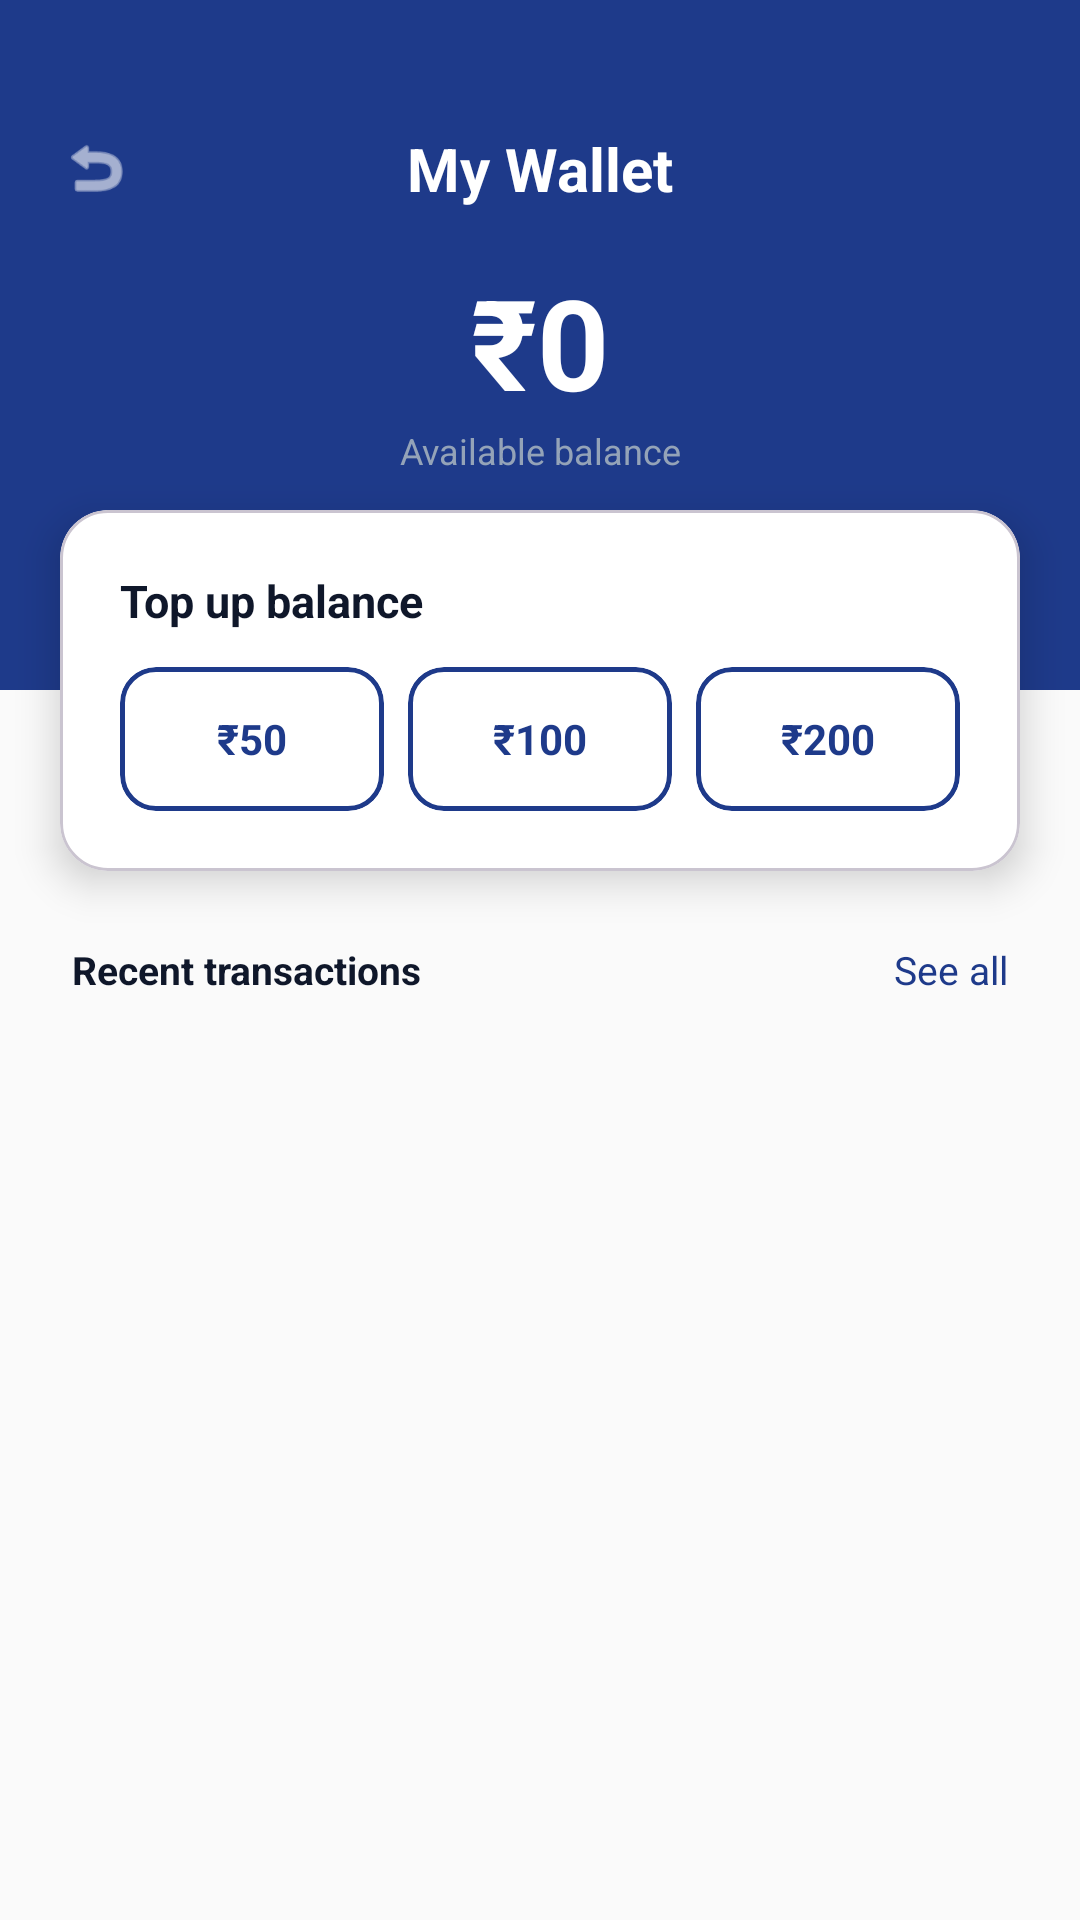

Point at icon controls on the screen. Image size 1080×1920, points as [x,y].
revert: [97,168]
